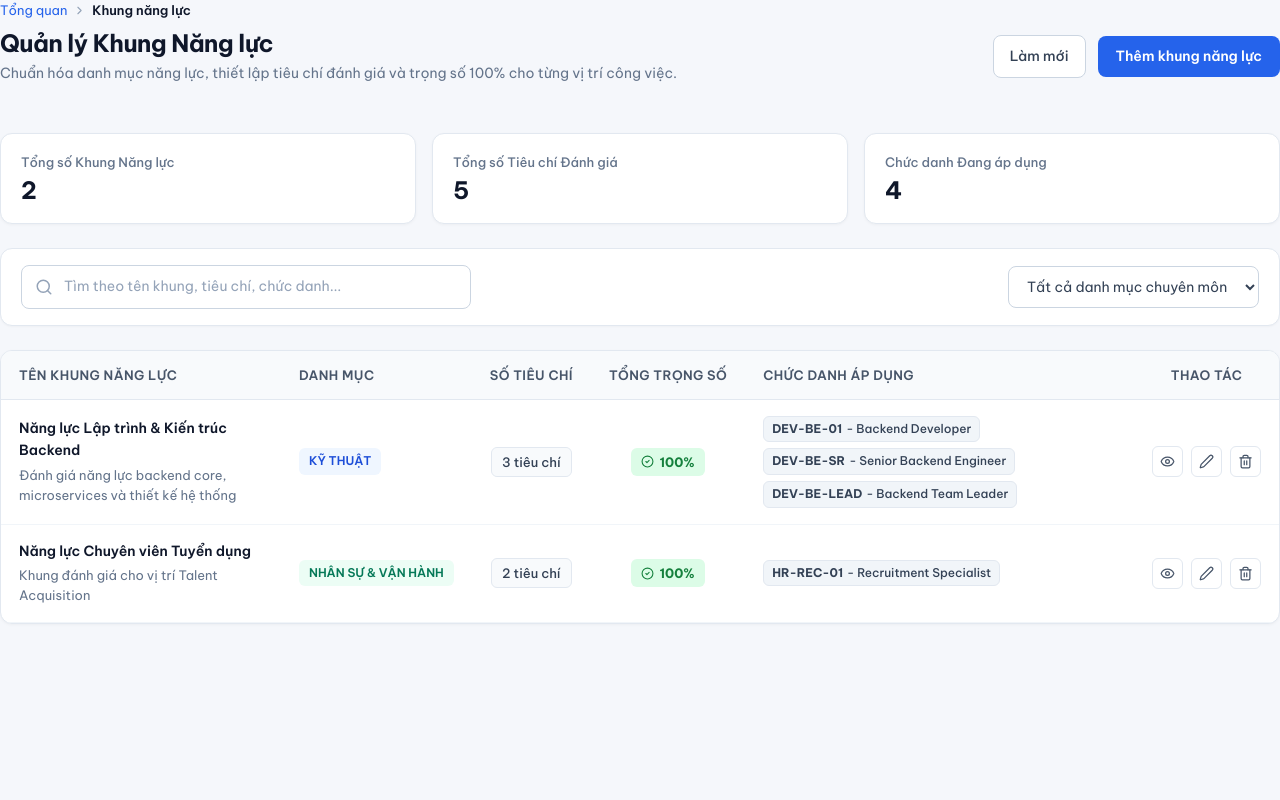
CompetencyFrameworkPage (S2-06 Quản lý khung năng lực - SCRUM-54) › TC13 - Opens detail modal and shows all criteria with weight breakdown
This screenshot has width=1280, height=800.
Click the button with test id "view-framework-1". click: (1168, 462)
box: left=1152, top=446, right=1183, bottom=477
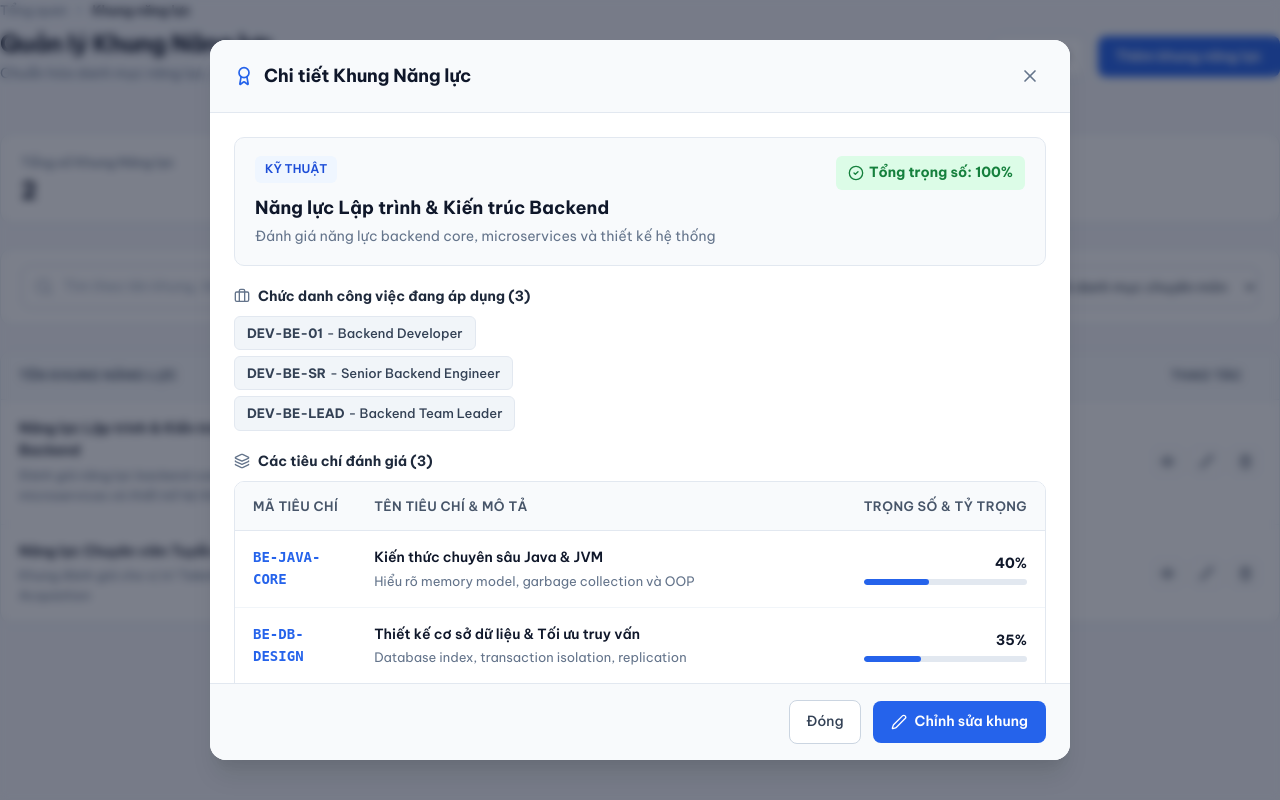
Check: the heading "Chi tiết Khung Năng lực" is shown, box left=234, top=64, right=471, bottom=88
Check: the text "Kiến thức chuyên sâu Java & JVM" is shown, box left=374, top=548, right=603, bottom=566
Check: the text "Thiết kế cơ sở dữ liệu & Tối ưu truy vấn" is shown, box left=374, top=625, right=640, bottom=643
